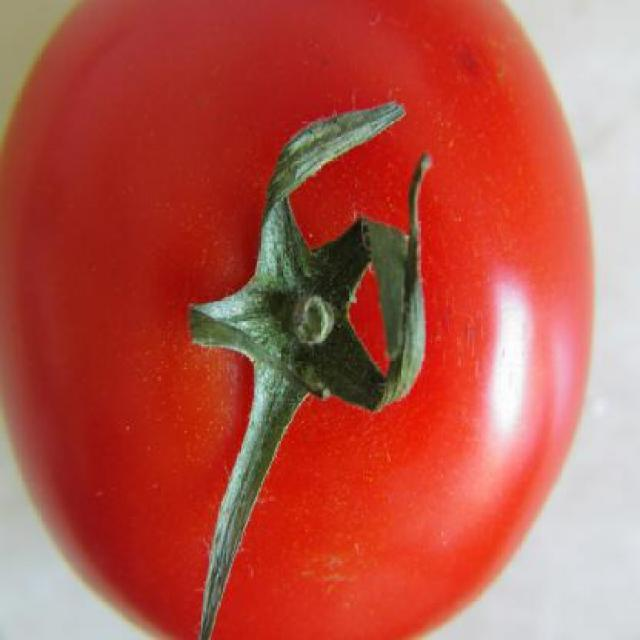Tomato: (0, 0, 592, 638)
